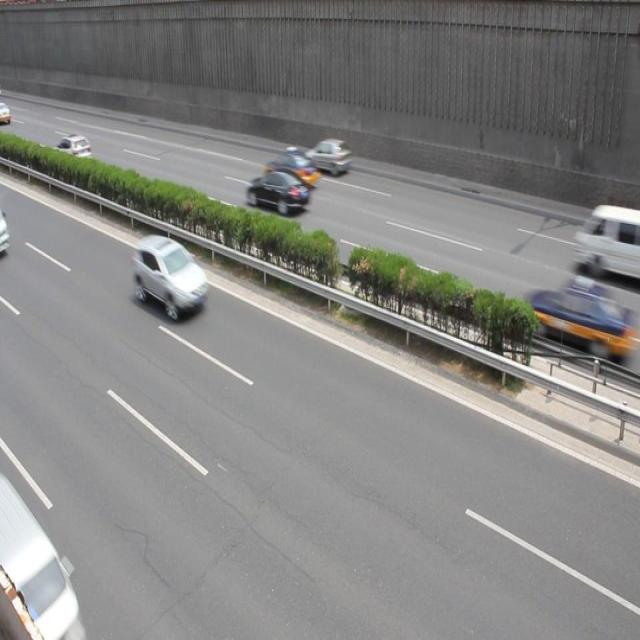car: (520, 278, 612, 356), (132, 234, 208, 321), (245, 168, 309, 214), (263, 147, 320, 192), (305, 137, 352, 177), (50, 131, 93, 169)
truck: (571, 210, 640, 279)
